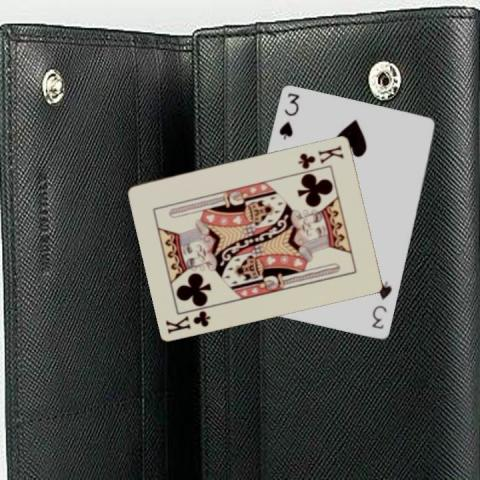3s: (276, 90, 301, 141), (370, 278, 394, 330)
Kc: (163, 307, 212, 335), (296, 142, 346, 169)
